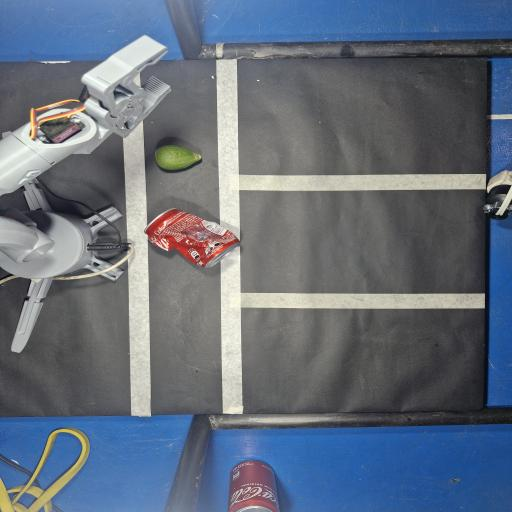higo: (155, 145, 201, 170)
lata_defectuoso: (144, 209, 240, 267)
